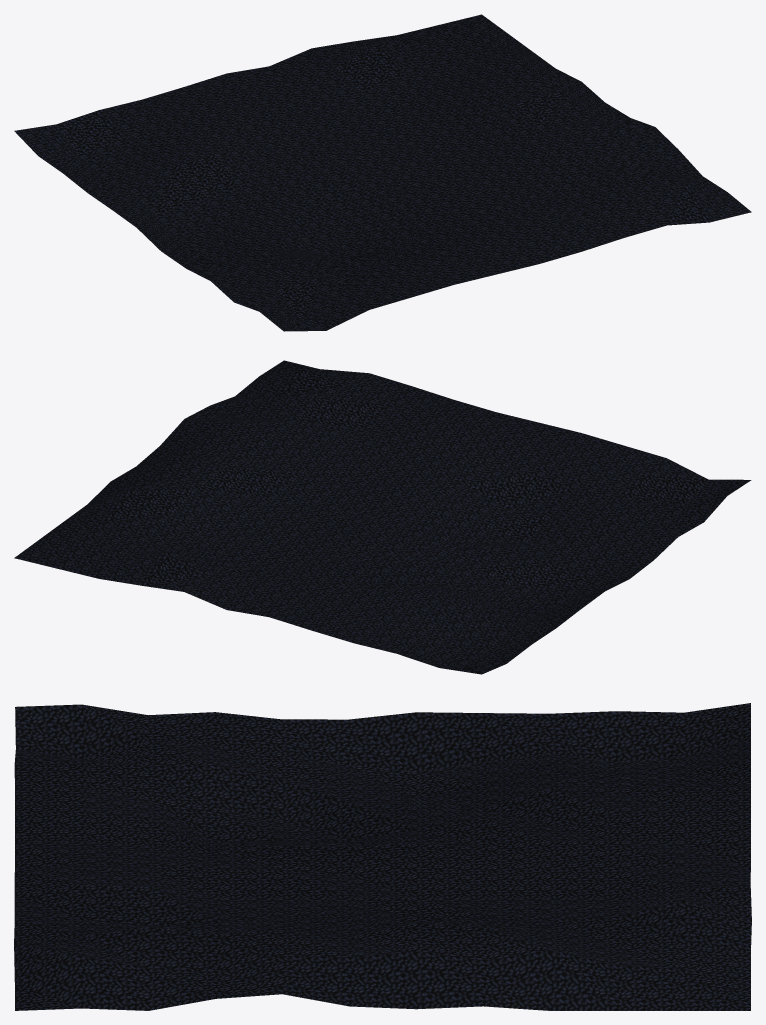
Rendered from CRUEL_BEACH.glb.
3 views of the same model, one above another, from view 1: azimuth 30°, elevation 25°; view 2: azimuth 150°, elevation 25°; view 3: azimuth 270°, elevation 25° (orthographic). The views are drawn at different scales.
Parts seen in each view (by area): view 1: sand; view 2: sand; view 3: sand.
Part boxes in pixels (<box>): sand: <box>14,14,751,331</box>; sand: <box>14,360,751,674</box>; sand: <box>14,703,751,1010</box>.
Size of what is drawn, in the model's own units: 15.59 by 1.77 by 15.54.
1 material, 1 textured.
